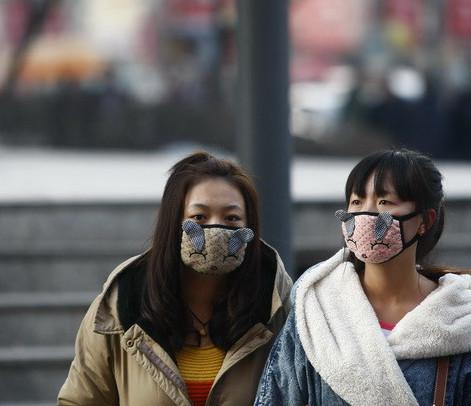OK: (339, 186, 415, 262), (179, 201, 254, 276)
